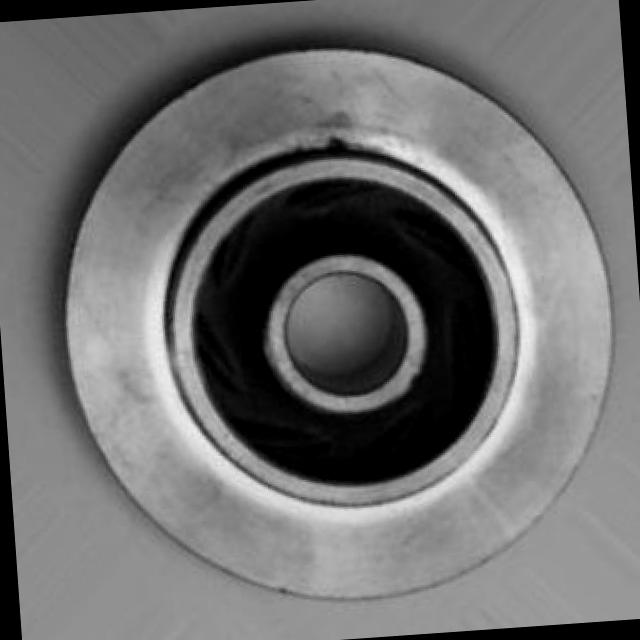Defect: (308, 117, 361, 164)
